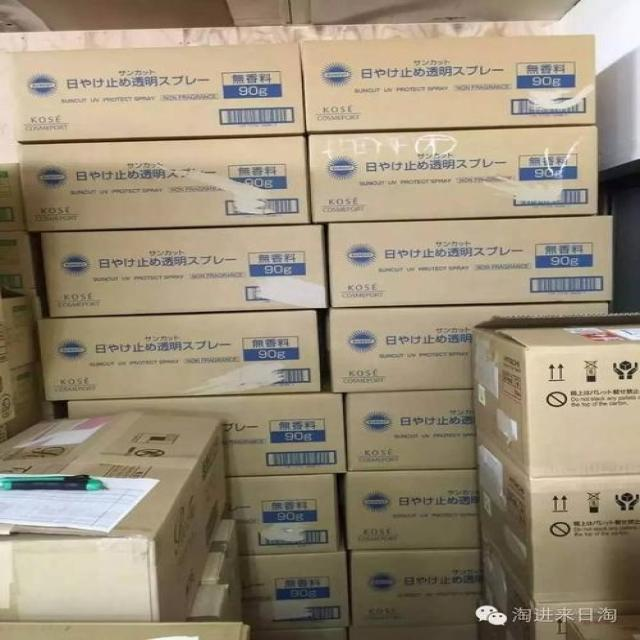box: (0, 408, 227, 622), (6, 43, 305, 144), (301, 34, 595, 134), (475, 428, 640, 602), (308, 127, 598, 224), (472, 312, 640, 477), (18, 136, 312, 230), (41, 225, 330, 317), (328, 215, 613, 308), (37, 310, 320, 401), (329, 303, 608, 392), (67, 392, 347, 477), (480, 529, 639, 640), (346, 468, 481, 550), (344, 389, 477, 472), (239, 536, 351, 631), (351, 550, 483, 627), (221, 474, 340, 556), (0, 296, 44, 443), (187, 519, 243, 622), (201, 518, 243, 622), (0, 622, 251, 639), (33, 291, 58, 420), (0, 232, 47, 298), (348, 623, 477, 640), (563, 614, 639, 640), (0, 161, 27, 232), (187, 583, 236, 622), (250, 628, 348, 639)
